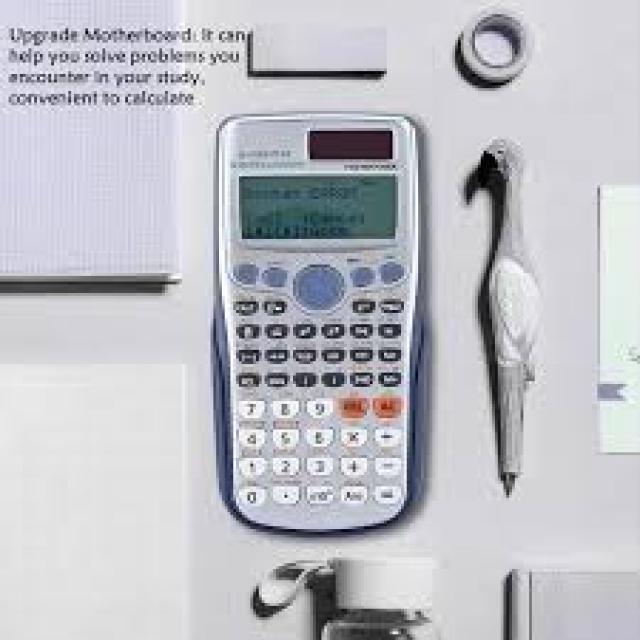Calculator: (216, 114, 434, 536)
